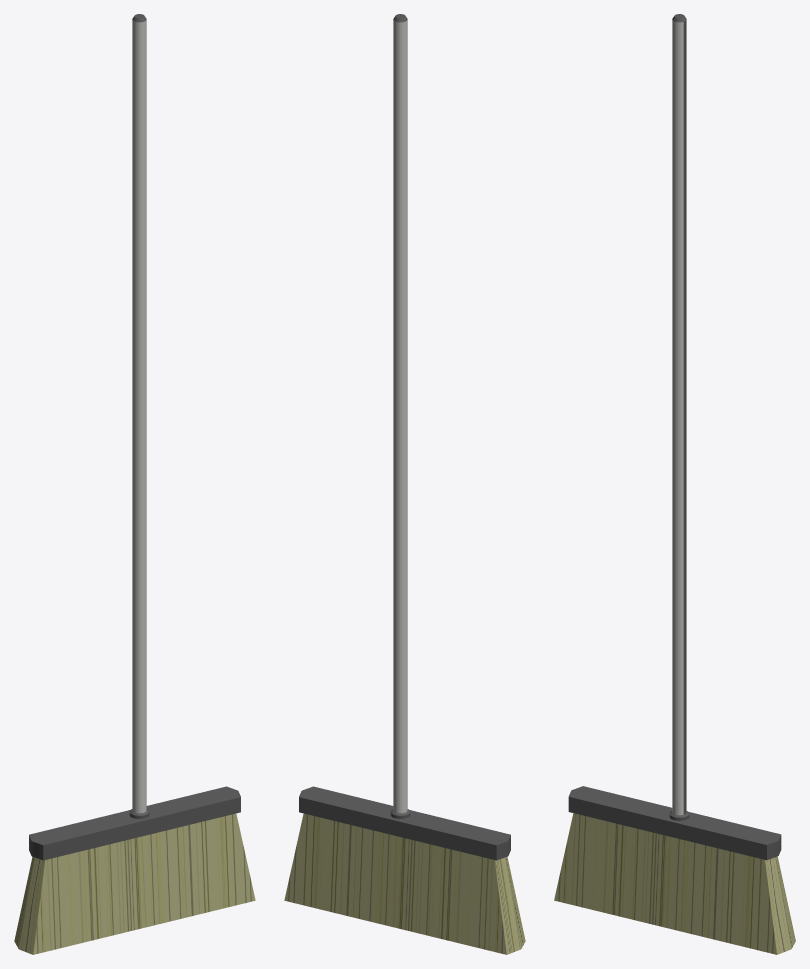
File: Broom (1).FBX
3 renders of one model, left to right at view 1: azimuth 30°, elevation 25°; view 2: azimuth 150°, elevation 25°; view 3: azimuth 330°, elevation 25°, orthographic.
Parts seen in each view (by area): view 1: Broom; view 2: Broom; view 3: Broom.
Part boxes in pixels (x1,y1,x2,y2): Broom: (14,14,255,954); Broom: (284,14,525,954); Broom: (554,14,795,954).
Bounding box in the file's own units: 30.76 × 114 × 4.3.
